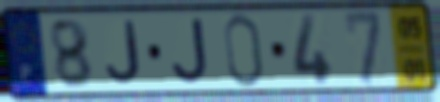0: (222, 11, 267, 91)
4: (291, 11, 336, 87)
7: (342, 8, 385, 89)
8: (48, 17, 95, 90)
J: (170, 16, 210, 87), (104, 19, 144, 86)
